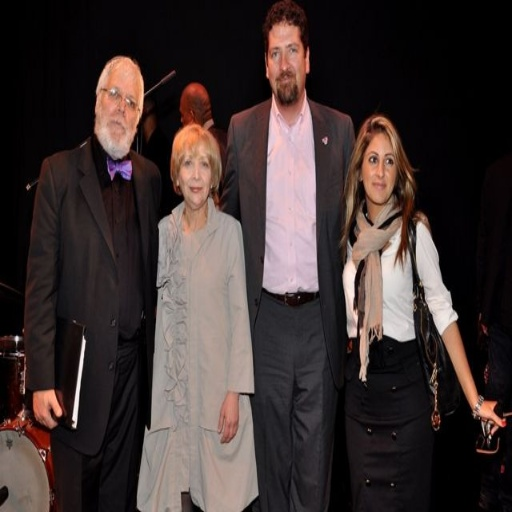hand: (472, 395, 504, 454), (31, 387, 62, 429), (216, 392, 238, 440), (415, 208, 429, 226)
